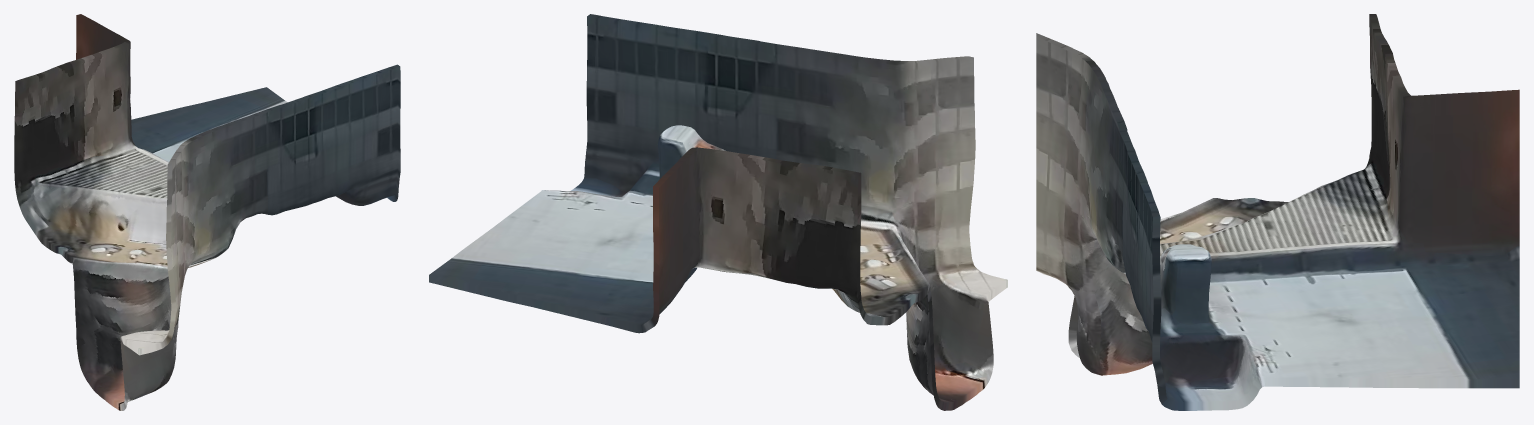
The model's file is z20-167774-405234-h0-yup-uvflip-v3-world.glb.
3 renders of one model, left to right at view 1: azimuth 30°, elevation 25°; view 2: azimuth 150°, elevation 25°; view 3: azimuth 270°, elevation 25°, orthographic. The views are drawn at different scales.
Size of the model in its own units: 30.16 by 24.12 by 30.32.
1 material, 1 textured.
